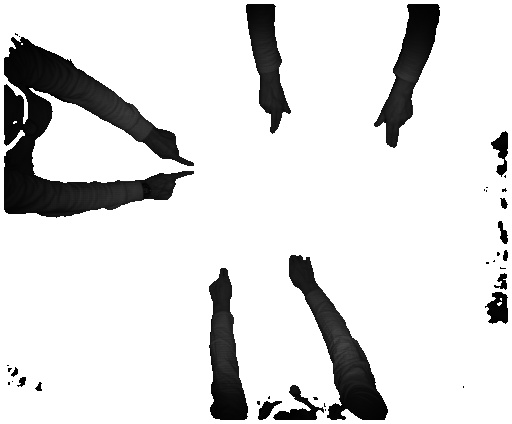hand: (368, 98, 415, 151), (256, 85, 295, 135), (153, 126, 197, 170), (149, 171, 199, 199), (288, 248, 316, 290), (208, 264, 231, 308)
